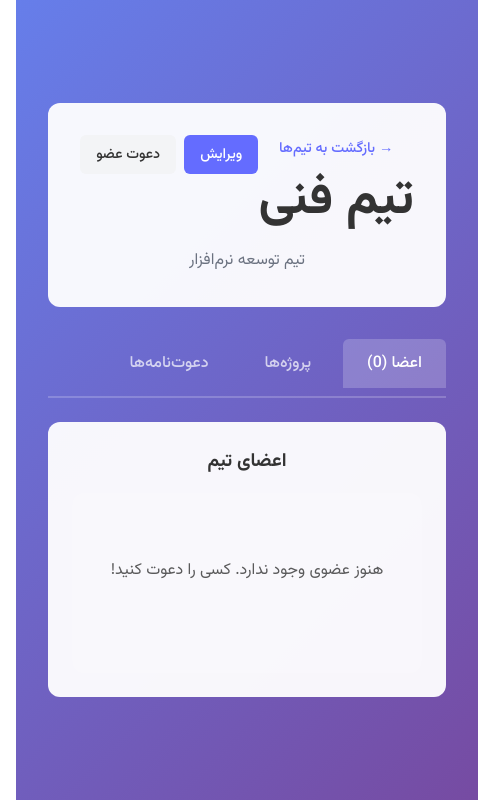
Scenario: TeamDetail › Tabs navigation › switches to invitations tab when clicked
The width and height of the screenshot is (495, 800).
expect the heading "تیم فنی" is shown: met, box [258, 170, 414, 231]
Click the button "دعوت‌نامه‌ها" at (169, 363), box [105, 338, 232, 388]
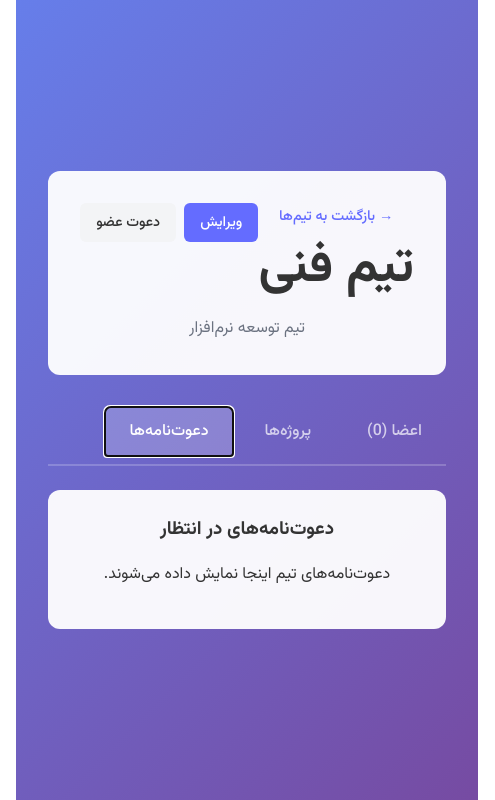
expect the text "دعوت‌نامه‌های تیم اینجا نمایش داده می‌شوند." is shown: met, box [104, 562, 390, 587]
